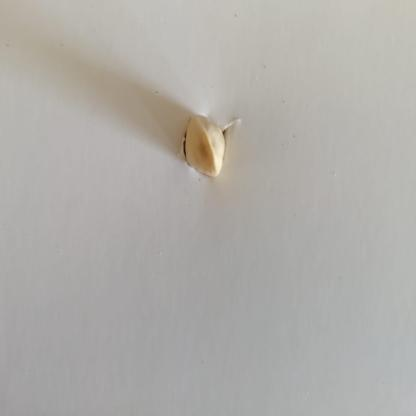pistachio: (174, 109, 246, 186)
